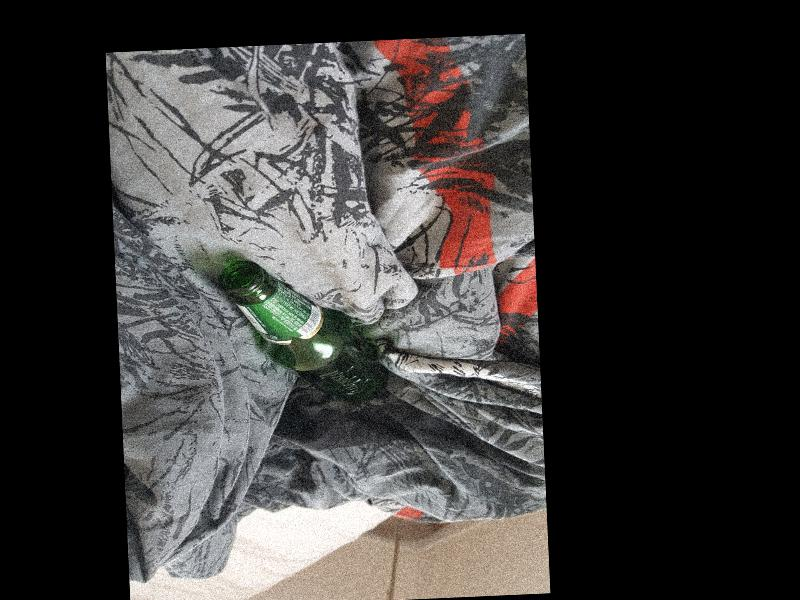Beer: (219, 254, 390, 407)
